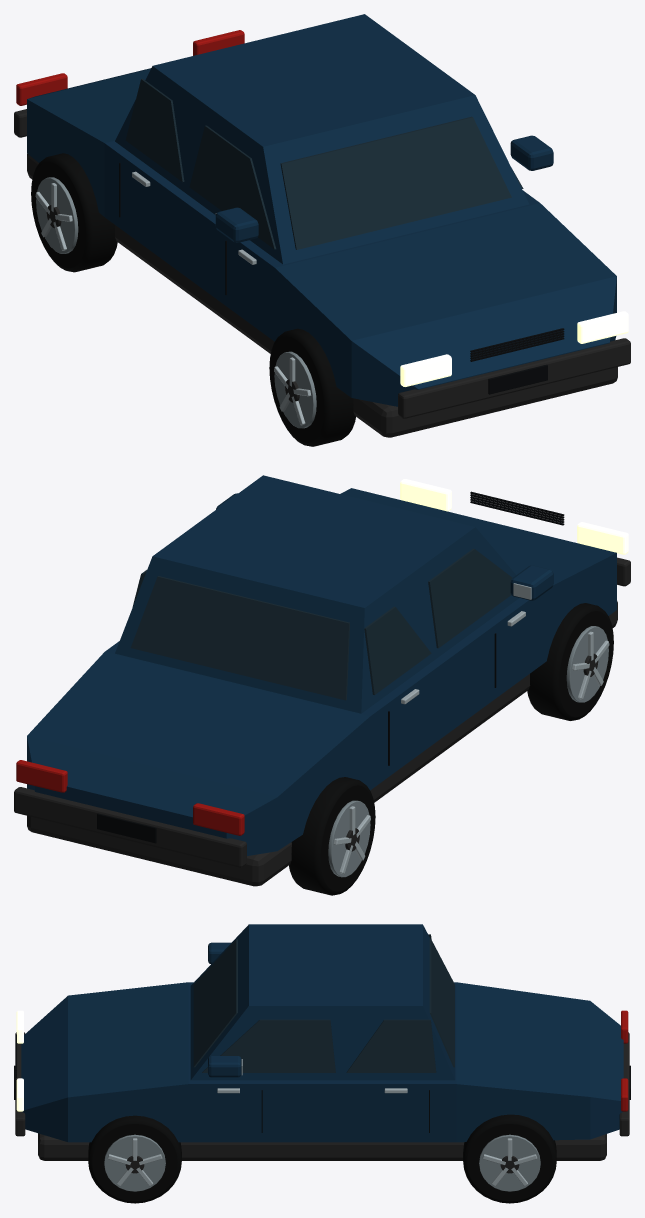
The model's file is OAA_Vehicle_Sedan.fbx.
The picture shows the model from 3 angles, top to bottom: view 1: azimuth 30°, elevation 25°; view 2: azimuth 150°, elevation 25°; view 3: azimuth 270°, elevation 25°; orthographic projection. The views are drawn at different scales.
Parts seen in each view (by area): view 1: Body, Pivot_Roda.011_Mesh, Pivot_Roda.010_Mesh; view 2: Body, Pivot_Roda.011_Mesh, Pivot_Roda.010_Mesh; view 3: Body, Pivot_Roda.013_Mesh, Pivot_Roda.012_Mesh.
Boxes of the visible parts, <box> form: Body: <box>14,14,630,437</box>; Pivot_Roda.011_Mesh: <box>31,153,117,272</box>; Pivot_Roda.010_Mesh: <box>269,328,355,446</box>; Body: <box>14,475,630,886</box>; Pivot_Roda.011_Mesh: <box>289,777,375,895</box>; Pivot_Roda.010_Mesh: <box>527,603,613,720</box>; Body: <box>14,924,630,1160</box>; Pivot_Roda.013_Mesh: <box>463,1114,556,1203</box>; Pivot_Roda.012_Mesh: <box>88,1115,181,1203</box>.
Bounding box in the file's own units: 2.17 × 1.52 × 4.61.
